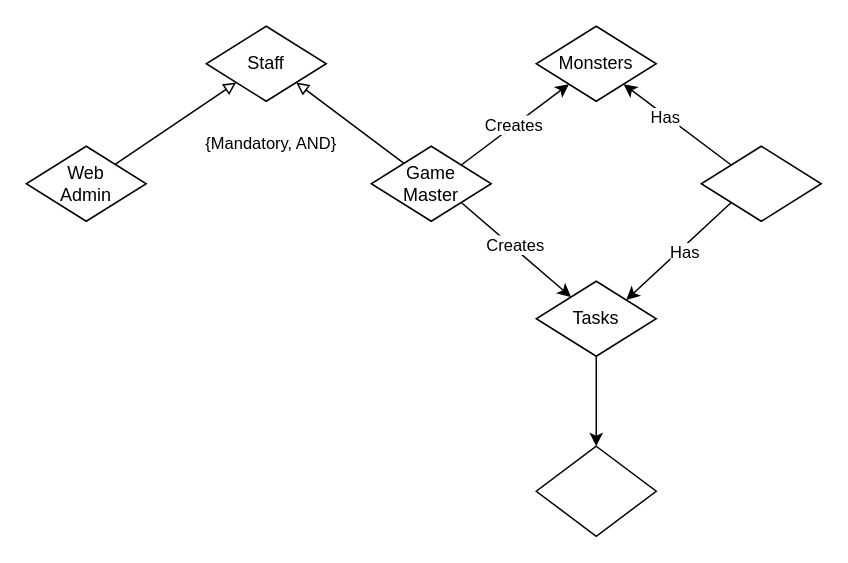
Image size: 848x563. Some labels were removed from this diagram. Here are the shapes that lost their labels. From the top down, the box of each, then its label:
(700, 145, 821, 221): Users
(535, 445, 656, 536): Task Types
